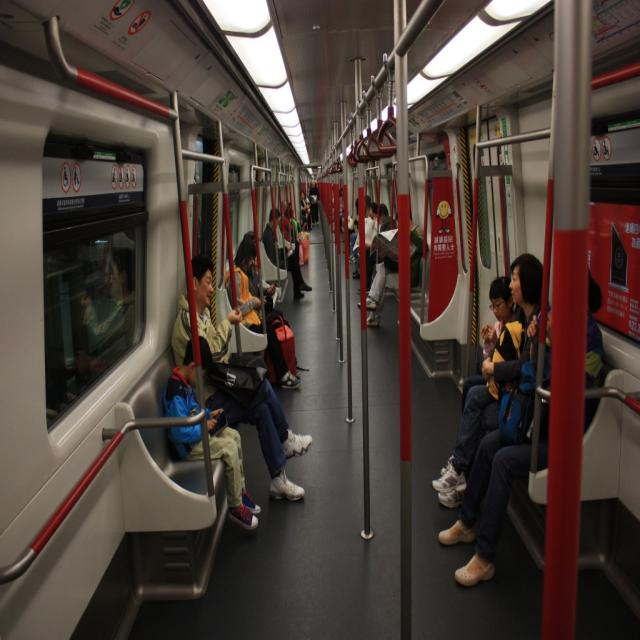body: (435, 251, 609, 592), (169, 250, 315, 504), (440, 250, 552, 480), (159, 333, 263, 534), (46, 229, 152, 416), (439, 274, 517, 479), (223, 237, 302, 391), (356, 210, 426, 330), (239, 237, 290, 371), (261, 206, 313, 300), (327, 186, 377, 282), (356, 202, 398, 296), (280, 190, 310, 264), (308, 177, 320, 227)
